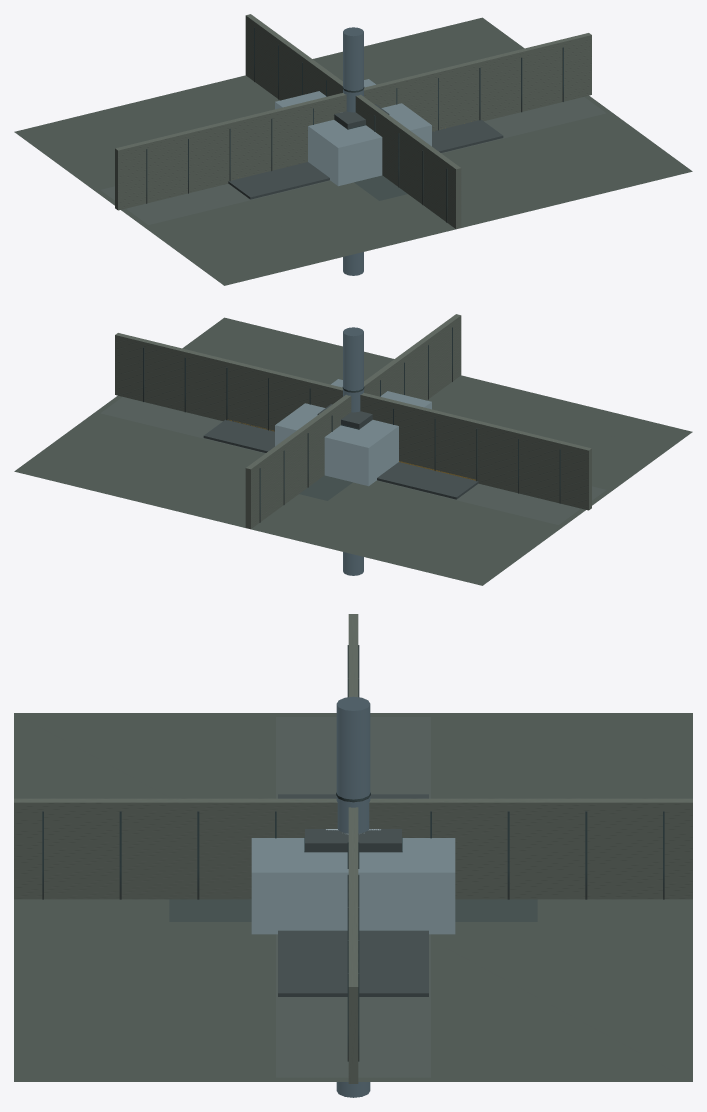
3 views of the same model, one above another, from view 1: azimuth 30°, elevation 25°; view 2: azimuth 150°, elevation 25°; view 3: azimuth 270°, elevation 25° (orthographic). The views are drawn at different scales.
Parts seen in each view (by area): view 1: detail-0000, concrete / box (×2), distantSteel / box, detail-0001, dark / box (×2), distantDark / cylinder, detail-0003; view 2: detail-0000, concrete / box (×2), distantSteel / box, detail-0001, dark / box (×2), distantDark / cylinder, detail-0003; view 3: detail-0000, concrete / box (×2), detail-0001, distantSteel / box, dark / box (×2), distantDark / cylinder, detail-0003.
Part boxes in pixels (x1,y1,x2,y2): detail-0000: [14, 17, 692, 285]; concrete / box (×2): [115, 14, 591, 229]; distantSteel / box: [275, 79, 431, 186]; detail-0001: [101, 97, 605, 224]; dark / box (×2): [228, 104, 503, 199]; distantDark / cylinder: [343, 27, 363, 275]; detail-0003: [354, 175, 407, 200]; detail-0000: [14, 317, 692, 585]; concrete / box (×2): [115, 314, 591, 529]; distantSteel / box: [275, 379, 431, 486]; detail-0001: [101, 397, 605, 524]; dark / box (×2): [203, 404, 478, 499]; distantDark / cylinder: [343, 327, 363, 575]; detail-0003: [299, 475, 352, 500]; detail-0000: [14, 713, 692, 1081]; concrete / box (×2): [14, 614, 692, 1083]; detail-0001: [276, 717, 430, 1077]; distantSteel / box: [251, 838, 455, 934]; dark / box (×2): [278, 794, 428, 996]; distantDark / cylinder: [336, 696, 370, 1097]; detail-0003: [169, 899, 537, 921].
Size of the model in its own units: 91 by 44 by 70.
23 materials, 16 textured.
